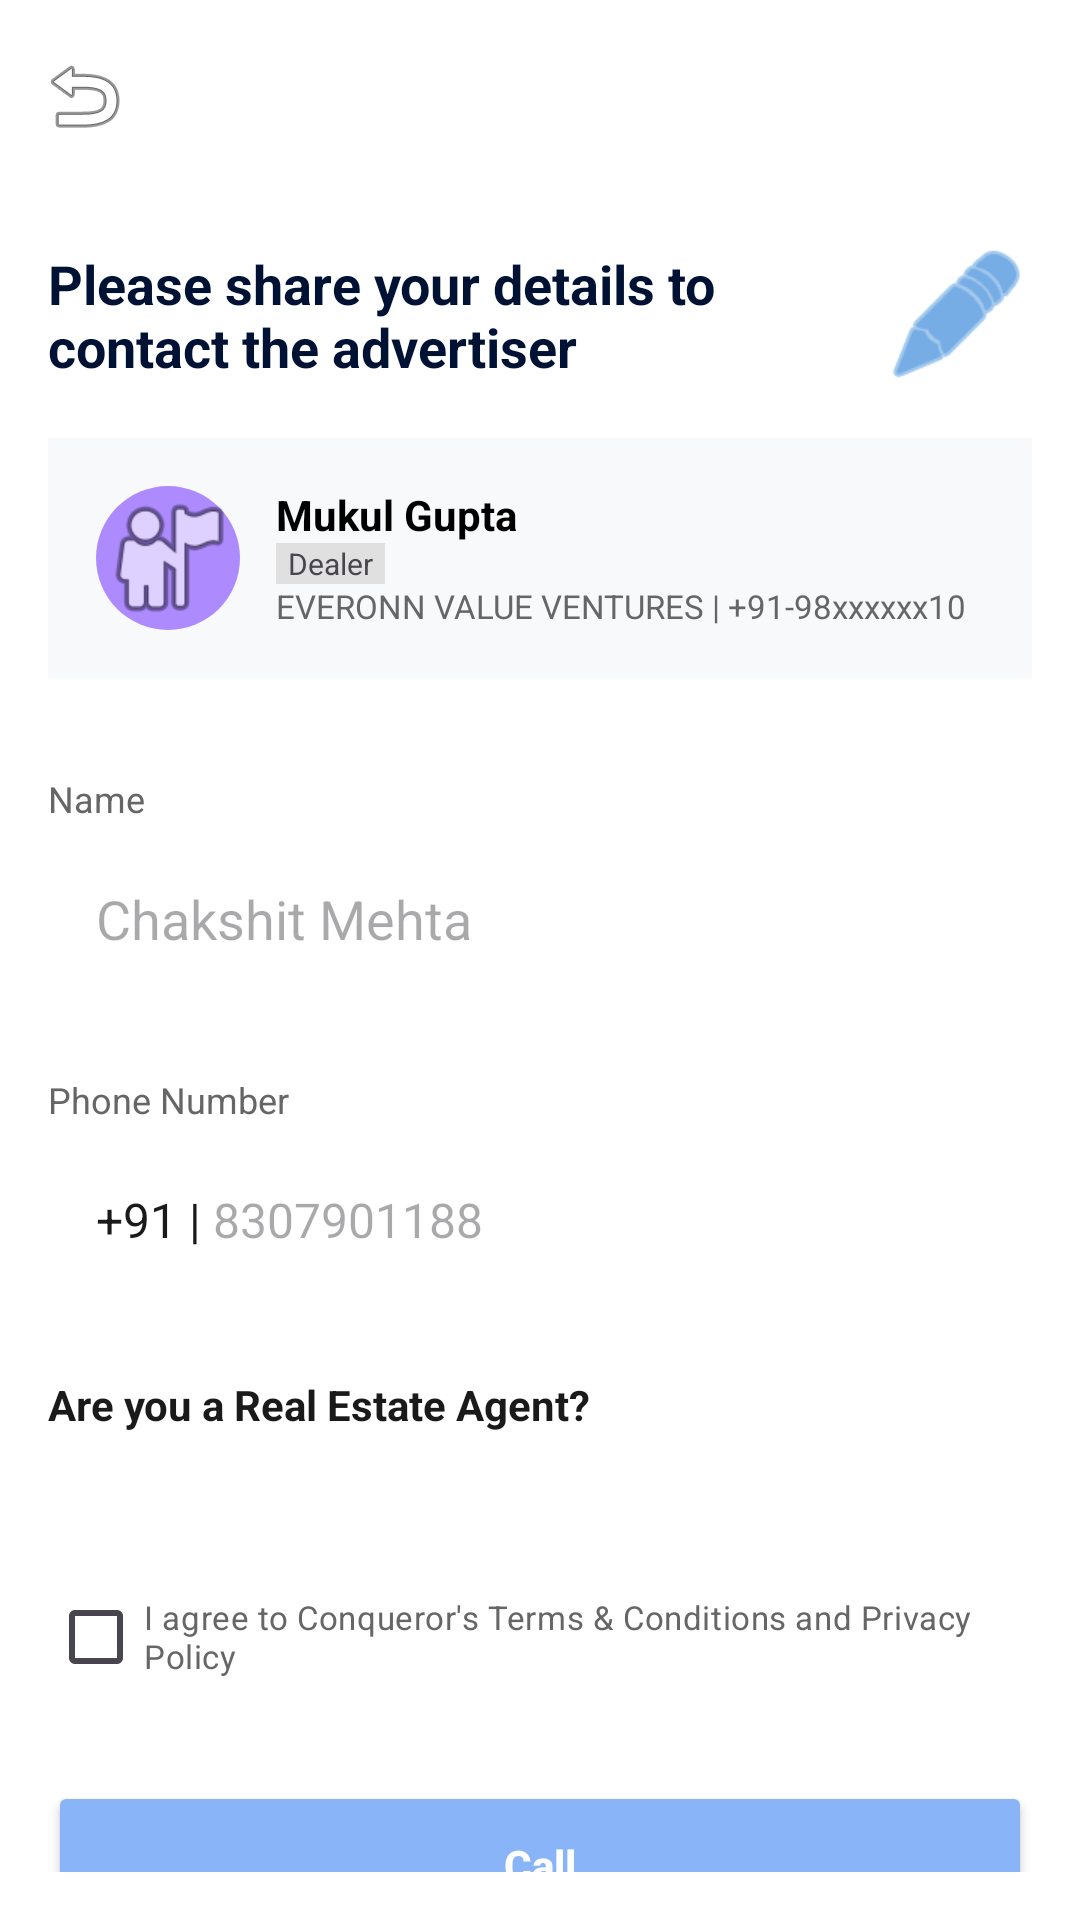

Icon click points for this 1080w x 1920h phone screenshot, format (x,y):
edit: (956,314)
